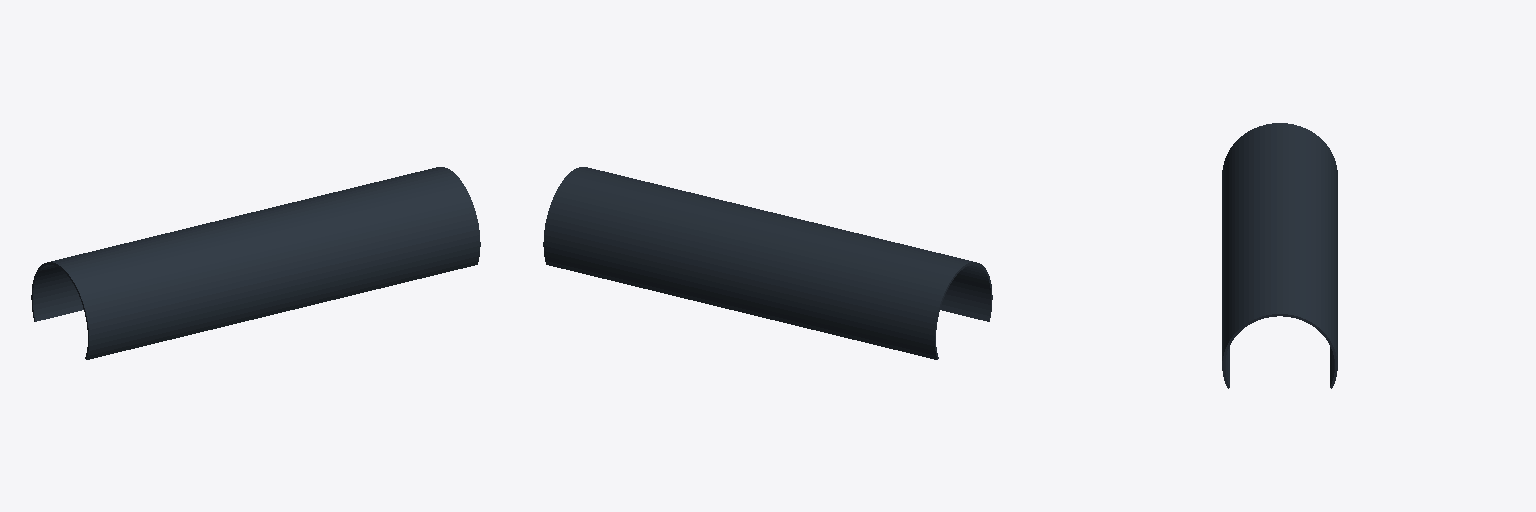
The model's file is suidaoding.obj.
The picture shows the model from 3 angles: view 1: azimuth 30°, elevation 25°; view 2: azimuth 150°, elevation 25°; view 3: azimuth 270°, elevation 25°; orthographic projection.
Visible parts, largest first — view 1: suidaoding; view 2: suidaoding; view 3: suidaoding.
Boxes of the visible parts, box(x1,y1,x2,y2) form: suidaoding: box(31, 167, 480, 359); suidaoding: box(543, 167, 992, 359); suidaoding: box(1222, 123, 1337, 388).
Size of the model in its own units: 50000 by 9144 by 12788.